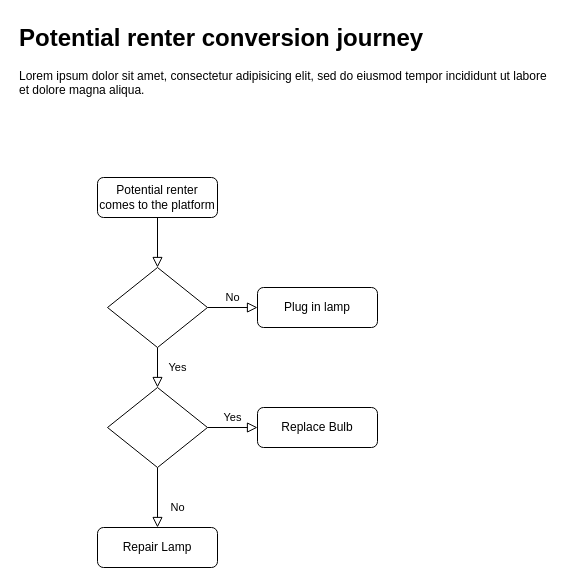
This 564x585 diagram has some shape labels left out. Here are the shapes that lost their labels. From the top down, the box of each, then its label:
(106, 266, 208, 348): Lamp plugged in?
(106, 386, 208, 468): Bulb burned out?
